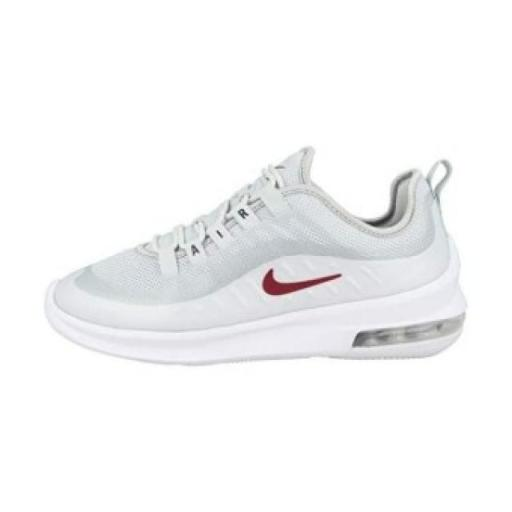Nike: (259, 265, 348, 300)
